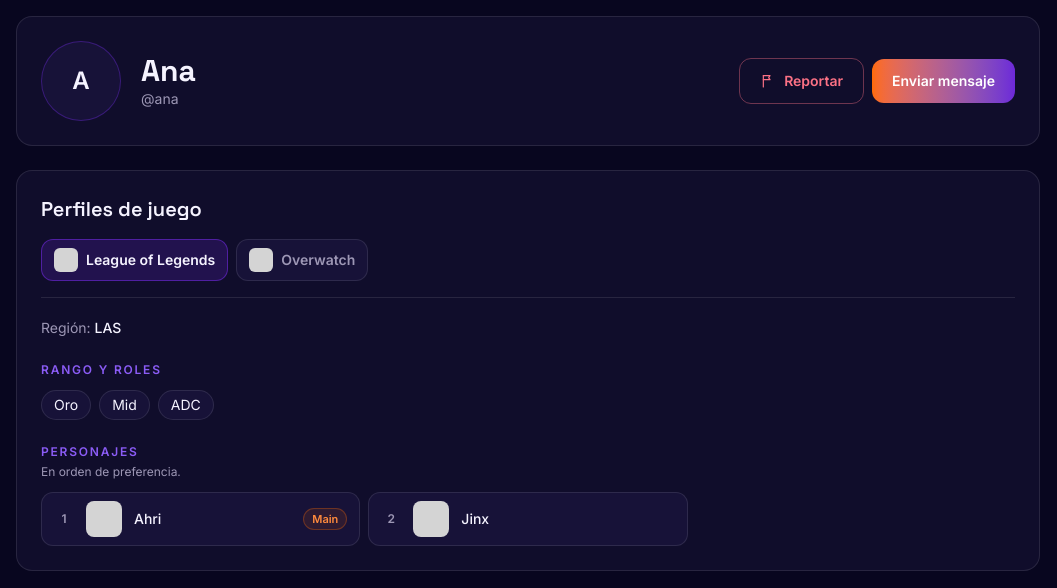
Test: JugadorPerfilPage - perfil de otro jugador › cambia de perfil de juego al elegir otra pestaña
Click the tab "Overwatch".
click(302, 260)  # box [236,239,368,281]
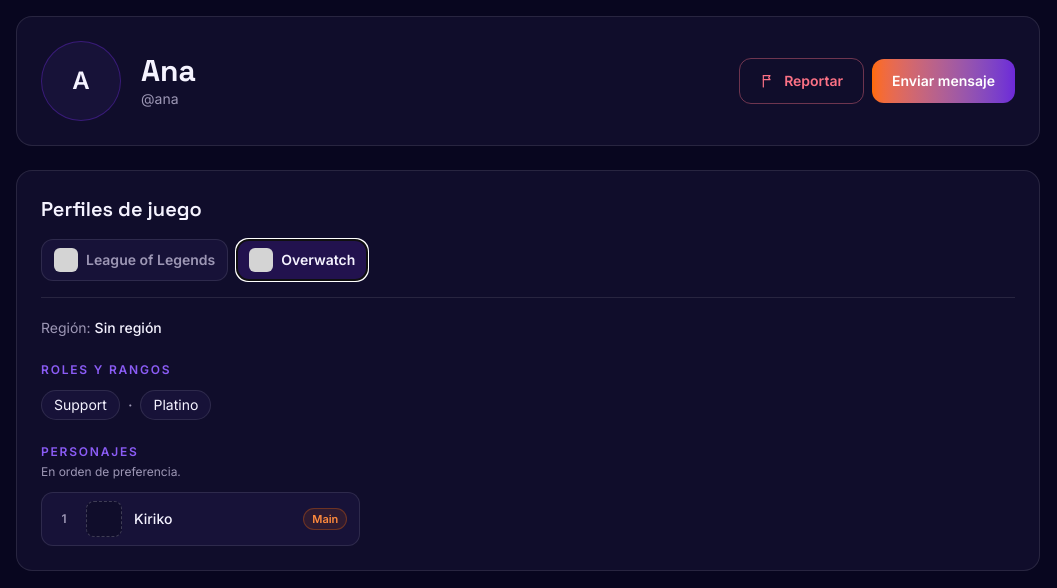
Expected: the text "Kiriko" is shown, [134,509,172,529]
Expected: the text "Platino" is shown, [154,395,198,415]
Expected: the text "Sin región" is shown, [95,319,162,336]
